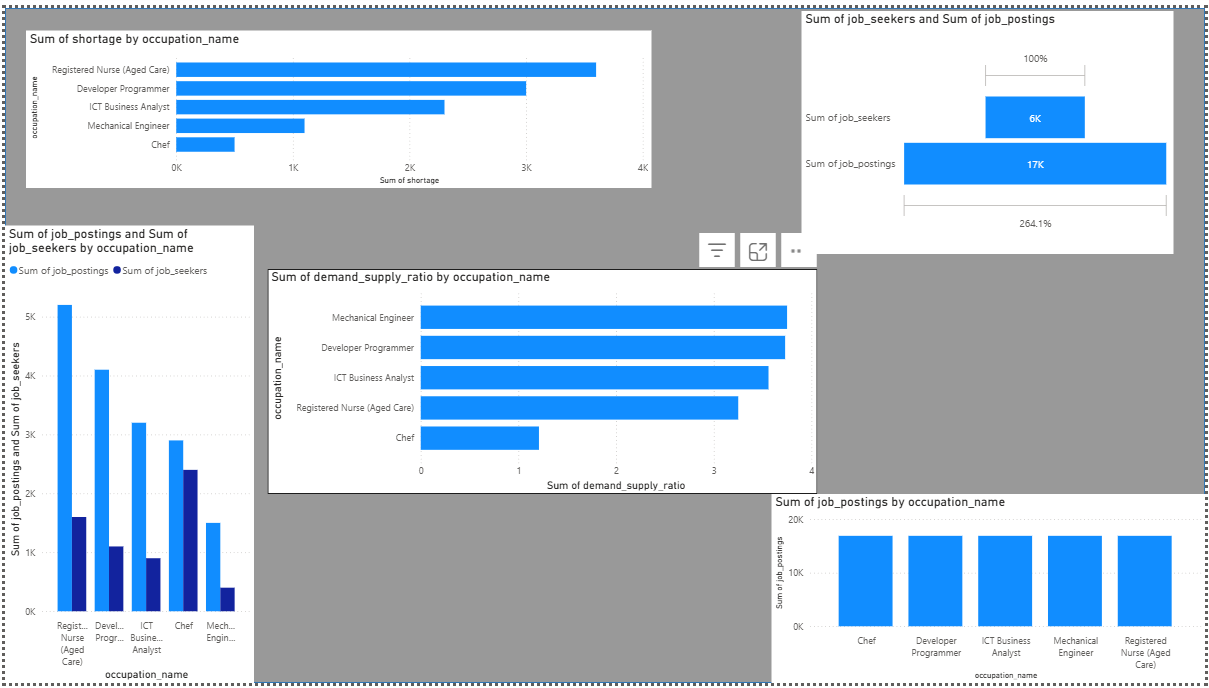

Layout of this report page (visuals, bound fields, positions):
{"tool":"powerbi","page":{"name":"Page 1","canvas":[1600,900],"ordinal":0},"visuals":[{"type":"shape","box":[0,0,1600,900],"z":0},{"type":"clusteredColumnChart","fields":{"Y":["Sum(public occupation_insights.job_postings)"],"Category":["public occupations.occupation_name"]},"box":[1022,648,578,252],"z":1000},{"type":"clusteredBarChart","fields":{"Category":["public occupation_insights.occupation_name"],"Y":["Sum(public occupation_insights.shortage)"]},"box":[28,30,834,210],"z":2000},{"type":"clusteredBarChart","fields":{"Category":["public occupation_insights.occupation_name"],"Y":["Sum(public occupation_insights.demand_supply_ratio)"]},"box":[350,348,734,300],"z":3000},{"type":"clusteredColumnChart","fields":{"Category":["public occupation_insights.occupation_name"],"Y":["Sum(public occupation_insights.job_postings)","Sum(public occupation_insights.job_seekers)"]},"box":[0,290,332,610],"z":4000},{"type":"funnel","fields":{"Y":["Sum(public demand_supply.job_seekers)","Sum(public demand_supply.job_postings)"]},"box":[1062,4,496,324],"z":5000}]}

Visuals, with their boxes in screenshot pixels (x1, y1, x2, y2), scaled from the page's 1600x900 canvas onto the 1209x688 screenshot:
shape: pyautogui.locateOnScreen(0, 0, 1208, 687)
clusteredColumnChart - Sum(public occupation_insights.job_postings) x public occupations.occupation_name: pyautogui.locateOnScreen(772, 495, 1208, 687)
clusteredBarChart - public occupation_insights.occupation_name x Sum(public occupation_insights.shortage): pyautogui.locateOnScreen(21, 23, 651, 183)
clusteredBarChart - public occupation_insights.occupation_name x Sum(public occupation_insights.demand_supply_ratio): pyautogui.locateOnScreen(264, 266, 819, 495)
clusteredColumnChart - public occupation_insights.occupation_name x Sum(public occupation_insights.job_postings): pyautogui.locateOnScreen(0, 222, 251, 687)
funnel - Sum(public demand_supply.job_seekers) x Sum(public demand_supply.job_postings): pyautogui.locateOnScreen(802, 3, 1177, 251)
